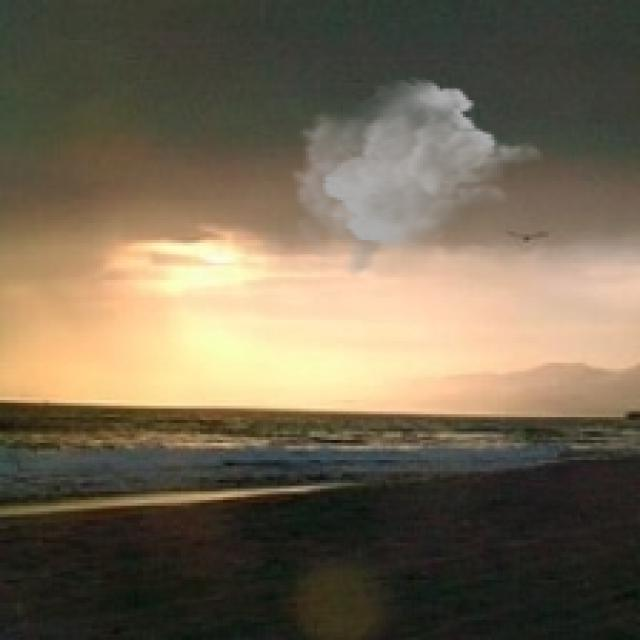smoke: (288, 77, 546, 277)
